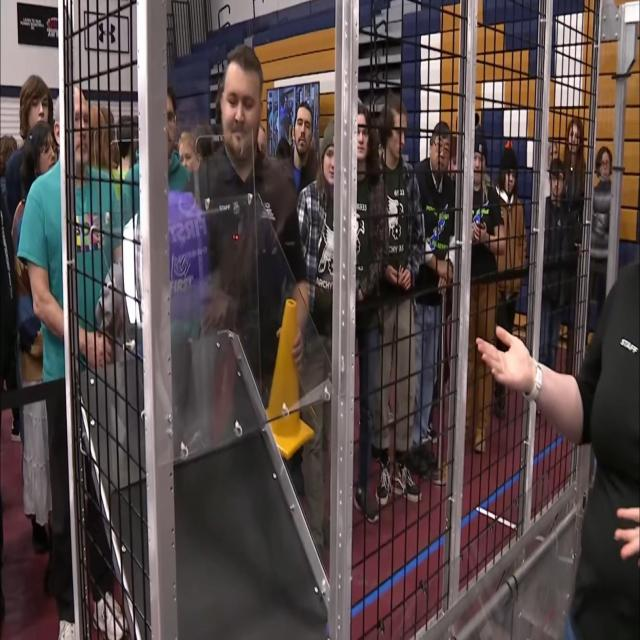frc_cone: (255, 297, 318, 456)
frc_cube: (144, 190, 210, 332)
